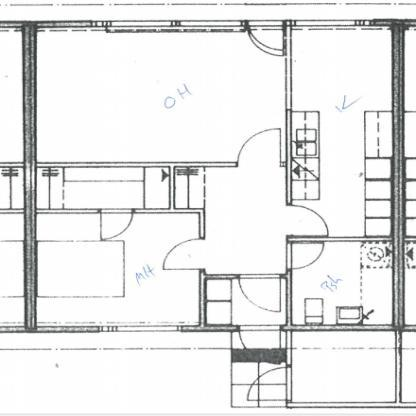bathroom: (286, 238, 400, 326)
door: (233, 126, 286, 169), (235, 322, 286, 366), (236, 271, 285, 314), (283, 202, 336, 241), (244, 363, 290, 405), (159, 237, 211, 273), (94, 209, 142, 244), (244, 22, 286, 56), (281, 242, 328, 272)
perimeter: (29, 24, 400, 330)
window: (88, 18, 247, 33), (288, 15, 378, 30), (90, 323, 184, 335)
